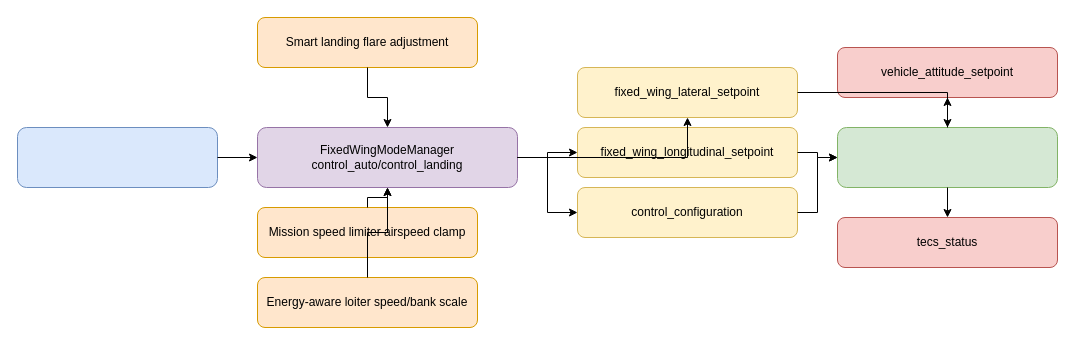
Image size: 1075x345. Some labels were removed from this diagram. The box of each missing label's shape, as (x1, y1, x2, y2) in pixels:
FwLateralLongitudinalControl: (836, 126, 1058, 188)
Navigator position_setpoint_triplet: (16, 126, 218, 188)
